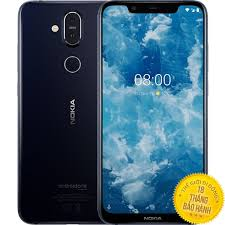nokia: (96, 1, 208, 225), (15, 1, 98, 225)
